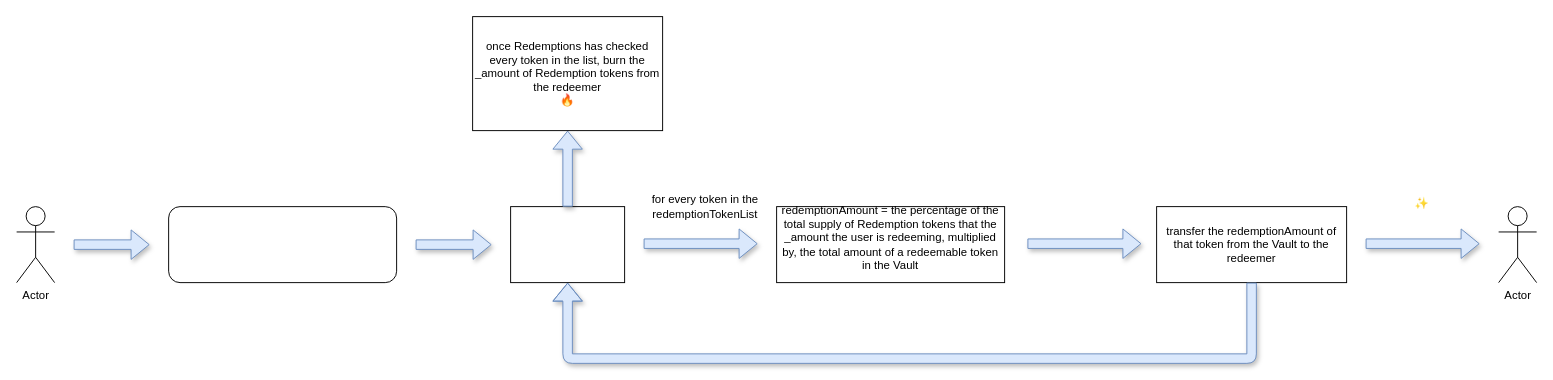
This 1553x380 diagram has some shape labels left out. The shapes that lost their labels are listed below. From the top down, each one's centre as x and y in pixels, then its label:
the point at 282,244: Redeem(_amount)
the point at 567,244: redemptionTokenList - token A, - token B, - token C
